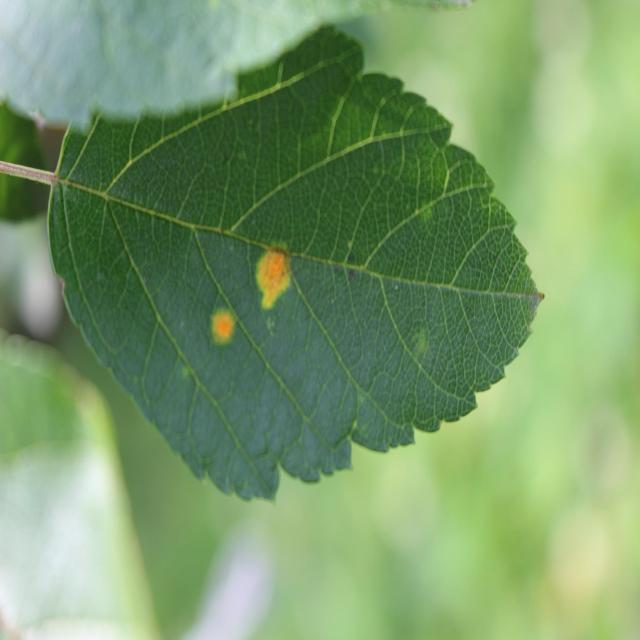Rust: (253, 230, 295, 325), (202, 282, 242, 381)
